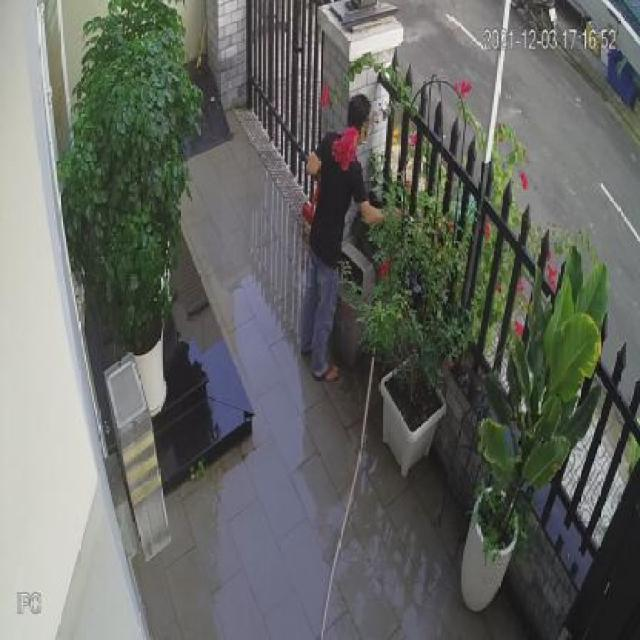Manusia: (298, 92, 397, 383)
